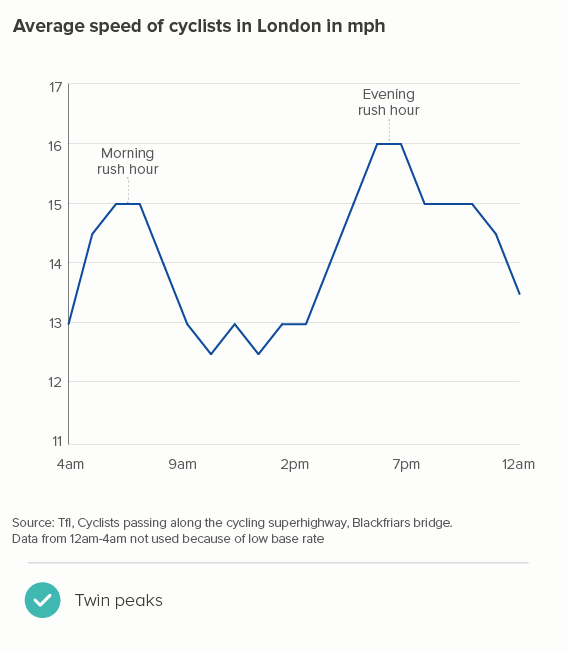S1_AxisNotZero: (43, 424, 567, 484)
